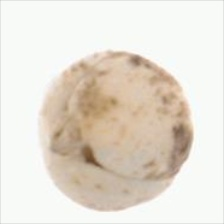L3: (48, 108, 98, 168)
L4: (39, 50, 194, 211)
